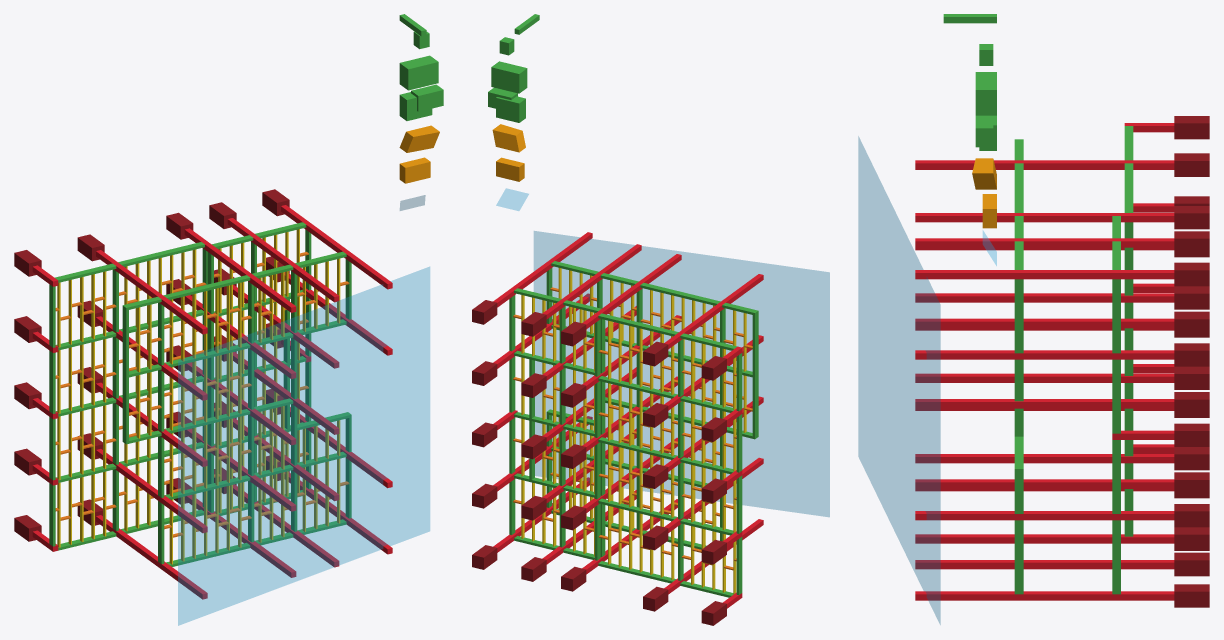
Rendered from tinker.obj.
The picture shows the model from 3 angles, left to right: view 1: azimuth 30°, elevation 25°; view 2: azimuth 150°, elevation 25°; view 3: azimuth 270°, elevation 25°; orthographic projection. The views are drawn at different scales.
Visible parts, largest first — view 1: obj_424, obj_420, obj_2, obj_3, obj_1, obj_4, obj_421, obj_20, obj_15, obj_13, obj_11, obj_6 (+12 smaller); view 2: obj_424, obj_420, obj_421, obj_1, obj_2, obj_3, obj_4, obj_419, obj_9, obj_7, obj_13, obj_23 (+12 smaller); view 3: obj_424, obj_8, obj_4, obj_9, obj_23, obj_18, obj_3, obj_13, obj_17, obj_22, obj_7, obj_21 (+43 smaller).
Part boxes in pixels (x1,y1,x2,y2): obj_424: [178, 266, 429, 625]; obj_420: [399, 84, 443, 120]; obj_2: [184, 228, 296, 312]; obj_3: [227, 218, 339, 302]; obj_1: [96, 250, 207, 334]; obj_4: [281, 205, 392, 289]; obj_421: [399, 55, 438, 90]; obj_20: [96, 515, 207, 599]; obj_15: [96, 449, 207, 532]; obj_13: [233, 352, 339, 434]; obj_11: [96, 382, 207, 466]; obj_6: [96, 316, 207, 400]; obj_424: [534, 231, 829, 516]; obj_420: [488, 87, 525, 122]; obj_421: [491, 61, 527, 93]; obj_1: [664, 274, 763, 349]; obj_2: [582, 254, 681, 329]; obj_3: [542, 244, 641, 319]; obj_4: [493, 232, 592, 307]; obj_419: [492, 124, 525, 152]; obj_9: [493, 293, 589, 368]; obj_7: [582, 315, 681, 390]; obj_13: [542, 367, 636, 441]; obj_23: [493, 477, 589, 552]; obj_424: [858, 136, 940, 624]; obj_8: [915, 318, 1174, 328]; obj_4: [915, 270, 1174, 279]; obj_9: [915, 350, 1174, 359]; obj_23: [915, 591, 1174, 600]; obj_18: [915, 511, 1174, 520]; obj_3: [915, 238, 1174, 247]; obj_13: [915, 399, 1174, 408]; obj_17: [915, 479, 1174, 488]; obj_22: [915, 560, 1174, 569]; obj_7: [915, 293, 1174, 302]; obj_21: [915, 534, 1174, 543].
Bounding box in the file's own units: 132 × 192 × 99.11.
